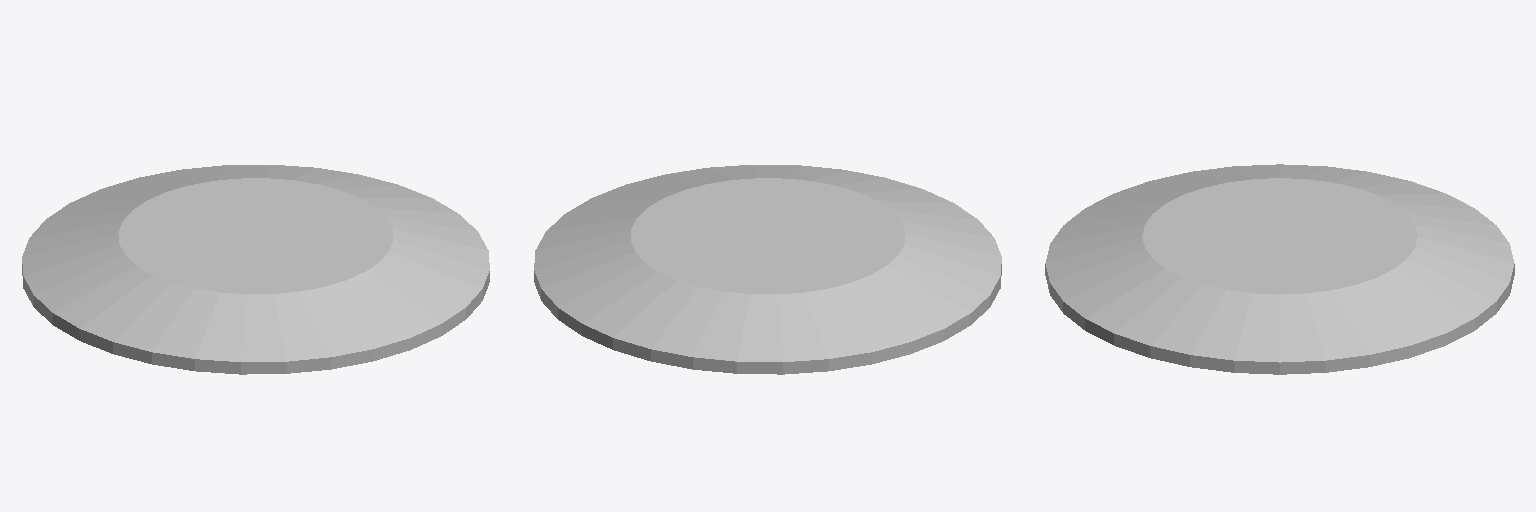
Rendered from red_dial.obj.
3 views of the same model, side by side, from view 1: azimuth 30°, elevation 25°; view 2: azimuth 150°, elevation 25°; view 3: azimuth 270°, elevation 25° (orthographic).
Visible parts, largest first — view 1: RedDial_RedDialMesh; view 2: RedDial_RedDialMesh; view 3: RedDial_RedDialMesh.
Boxes of the visible parts, <box> form: RedDial_RedDialMesh: <box>22,165,489,374</box>; RedDial_RedDialMesh: <box>534,165,1001,374</box>; RedDial_RedDialMesh: <box>1045,164,1514,374</box>.
Size of the model in its own units: 3.41 by 0.3158 by 3.41.